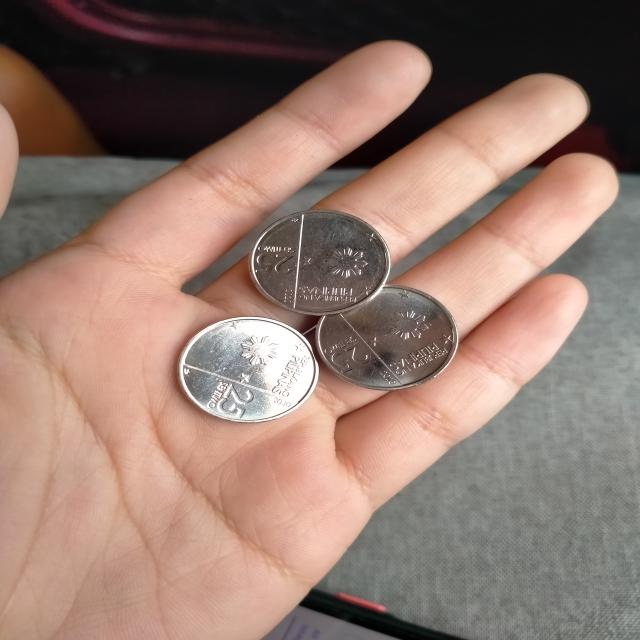25Cent_New_Front: (196, 372, 258, 420), (322, 333, 376, 378), (261, 240, 300, 278)
